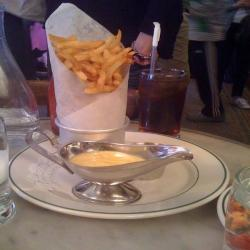fries: (44, 23, 140, 114)
